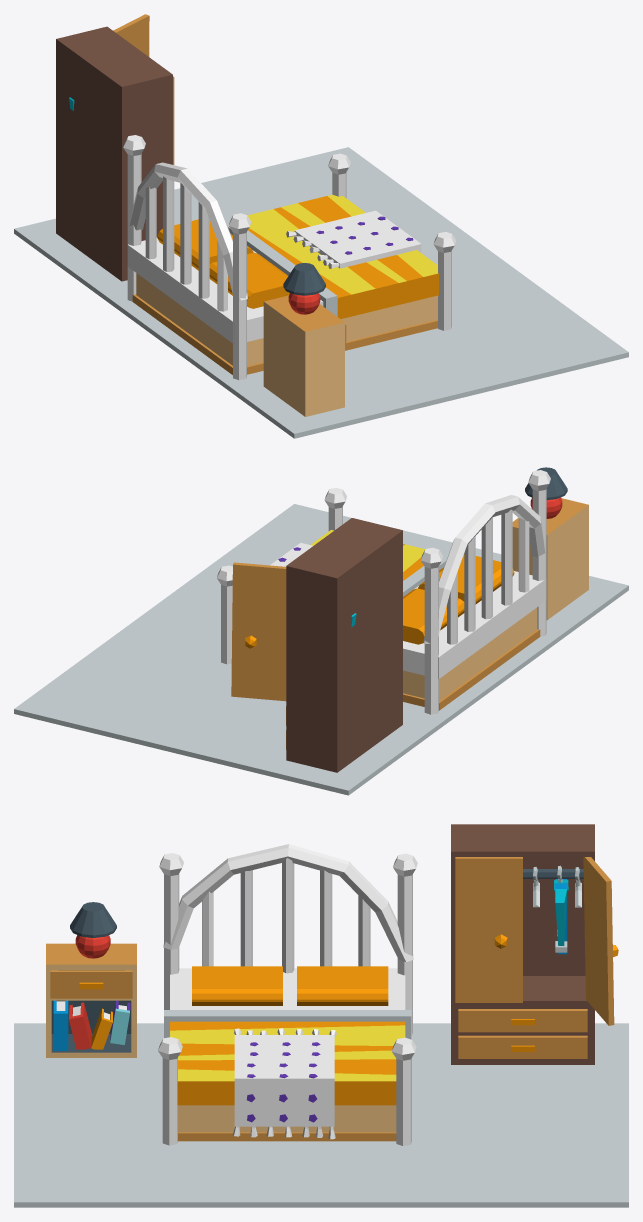
File: Bedroom.glb
3 renders of one model, top to bottom at view 1: azimuth 30°, elevation 25°; view 2: azimuth 150°, elevation 25°; view 3: azimuth 270°, elevation 25°, orthographic. The views are drawn at different scales.
Parts seen in each view (by area): view 1: group579793175, group1099855414, group1746956383, group1792502002, group1974525828, group1779594578, group53819858, group29848447, group1026755034, group796940361, group2076333141, group518202975 (+10 smaller); view 2: group579793175, group1099855414, group776681709, group1746956383, group1792502002, group53819858, group1974525828, group2076333141, group29848447, group1948111454, group1026755034, group1774143485 (+9 smaller); view 3: group579793175, group1099855414, group1746956383, group492854331, group1779594578, group53819858, group1792502002, group776681709, group1974525828, group1948111454, group796940361, group738298667 (+20 smaller).
Boxes of the visible parts, left/top/right/bottom form: group579793175: left=14, top=147, right=628, bottom=438; group1099855414: left=56, top=26, right=172, bottom=281; group1746956383: left=127, top=194, right=438, bottom=344; group1792502002: left=263, top=295, right=344, bottom=416; group1974525828: left=136, top=273, right=437, bottom=365; group1779594578: left=294, top=210, right=421, bottom=268; group53819858: left=129, top=162, right=248, bottom=300; group29848447: left=228, top=213, right=251, bottom=380; group1026755034: left=132, top=294, right=437, bottom=374; group796940361: left=209, top=252, right=289, bottom=308; group2076333141: left=123, top=135, right=145, bottom=301; group518202975: left=433, top=232, right=456, bottom=330; group579793175: left=14, top=504, right=628, bottom=795; group1099855414: left=286, top=518, right=402, bottom=772; group776681709: left=231, top=562, right=286, bottom=701; group1746956383: left=310, top=530, right=546, bottom=678; group1792502002: left=512, top=498, right=588, bottom=620; group53819858: left=423, top=495, right=545, bottom=644; group1974525828: left=403, top=607, right=537, bottom=700; group2076333141: left=420, top=547, right=442, bottom=714; group29848447: left=528, top=470, right=550, bottom=636; group1948111454: left=403, top=588, right=464, bottom=644; group1026755034: left=403, top=629, right=540, bottom=710; group1774143485: left=217, top=565, right=232, bottom=664; group579793175: left=14, top=1023, right=628, bottom=1207; group1099855414: left=451, top=824, right=594, bottom=1064; group1746956383: left=170, top=968, right=405, bottom=1105; group492854331: left=455, top=857, right=522, bottom=1002; group1779594578: left=234, top=1035, right=334, bottom=1126; group53819858: left=163, top=844, right=413, bottom=962; group1792502002: left=46, top=943, right=136, bottom=1057; group776681709: left=583, top=857, right=618, bottom=1025; group1974525828: left=178, top=1105, right=396, bottom=1132; group1948111454: left=297, top=966, right=388, bottom=1005; group796940361: left=192, top=966, right=282, bottom=1005; group738298667: left=164, top=1010, right=411, bottom=1039.
Bounding box in the file's own units: 1.44 × 0.82 × 2.09.
